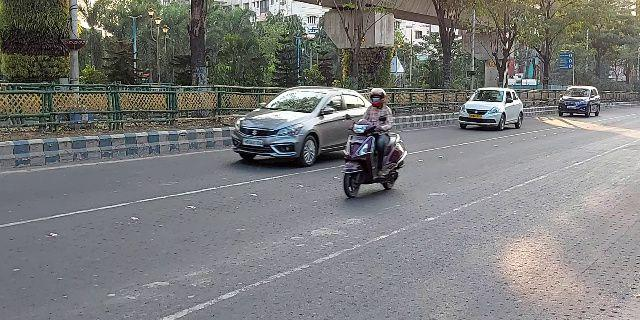Car: (230, 83, 373, 170), (457, 84, 526, 132), (558, 82, 601, 120)
Motorbike: (341, 85, 409, 200)
